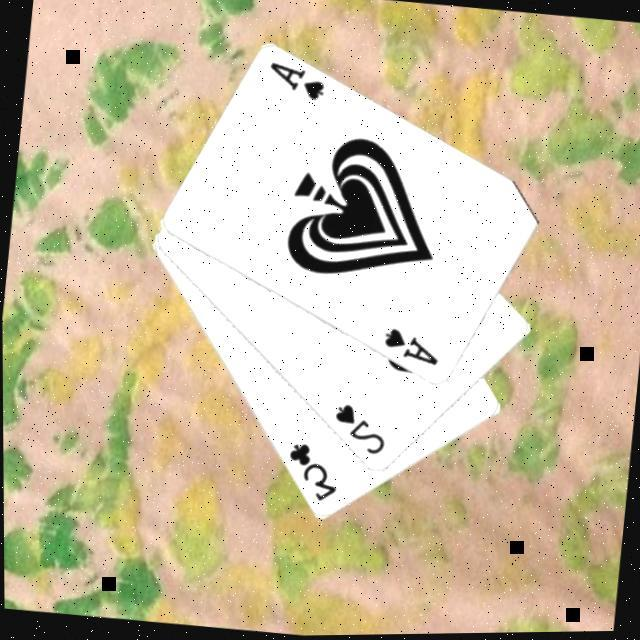2S: (324, 398, 388, 460)
3C: (278, 438, 341, 507)
AS: (260, 58, 328, 106), (375, 323, 441, 370)
